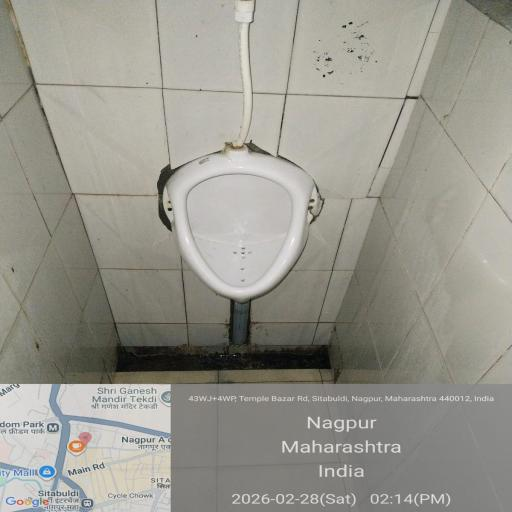clean_urinal: (142, 135, 381, 307)
partial_dirty_floor: (11, 320, 512, 504)
